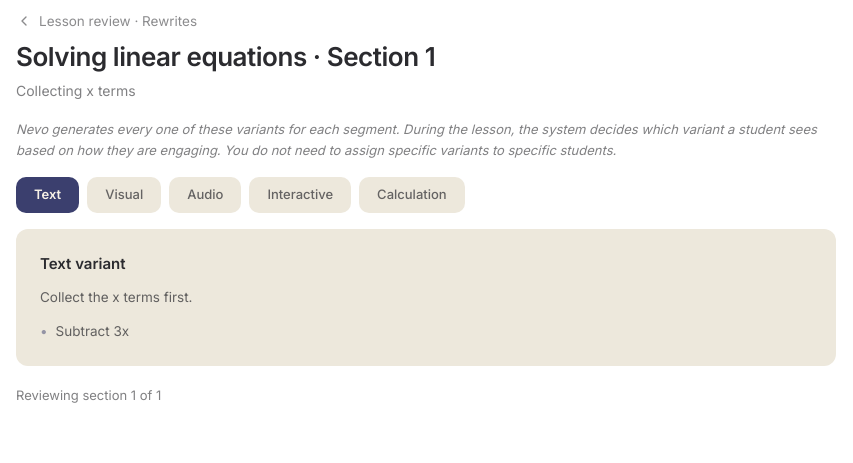
a signed-in teacher's own lesson › shows the equation as it reads after each step
Click the tab "Calculation" at (412, 195), box [359,177,465,213]
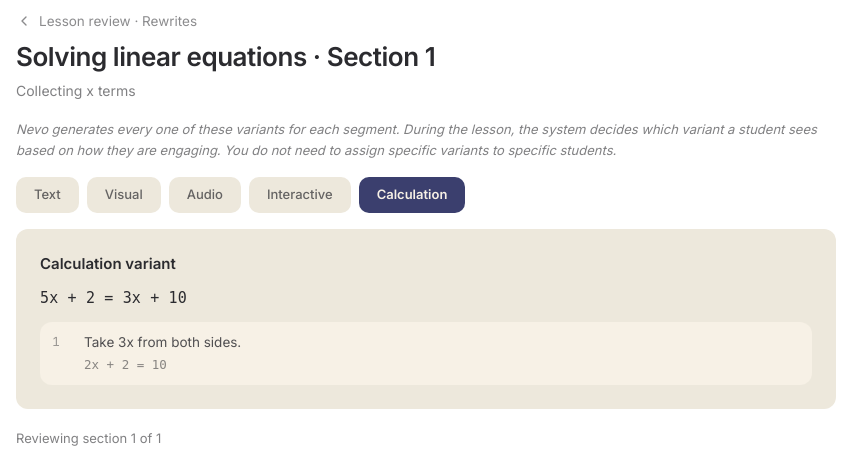
Check: the text "2x + 2 = 10" is shown, box [84,357,167,372]
